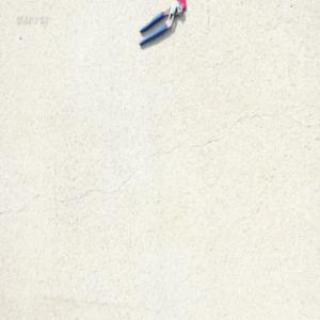LuggageTagtrack_idkeyframe: (175, 0, 190, 12)
Pliertrack_idkeyframe: (138, 0, 184, 46)
